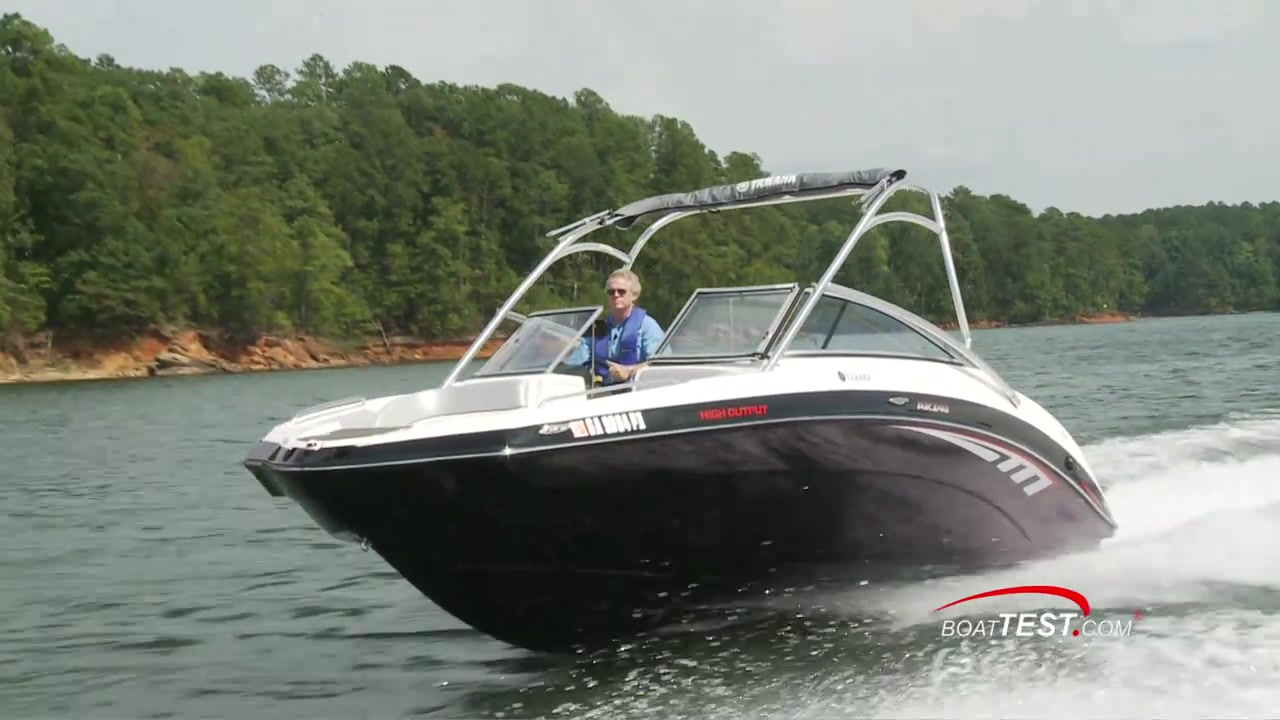boat: (239, 168, 1117, 650)
